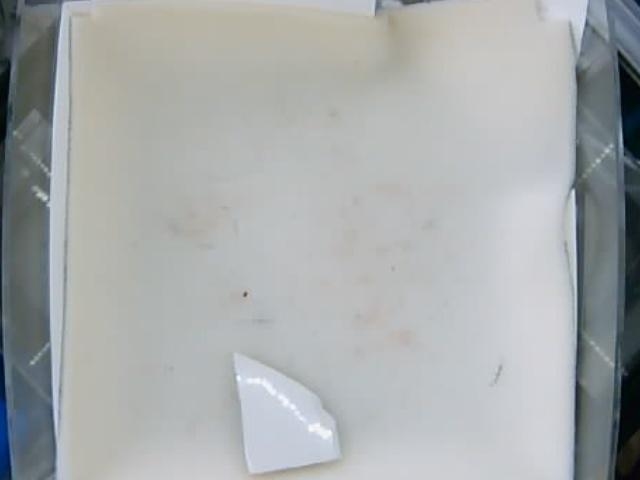China: (230, 350, 342, 476)
